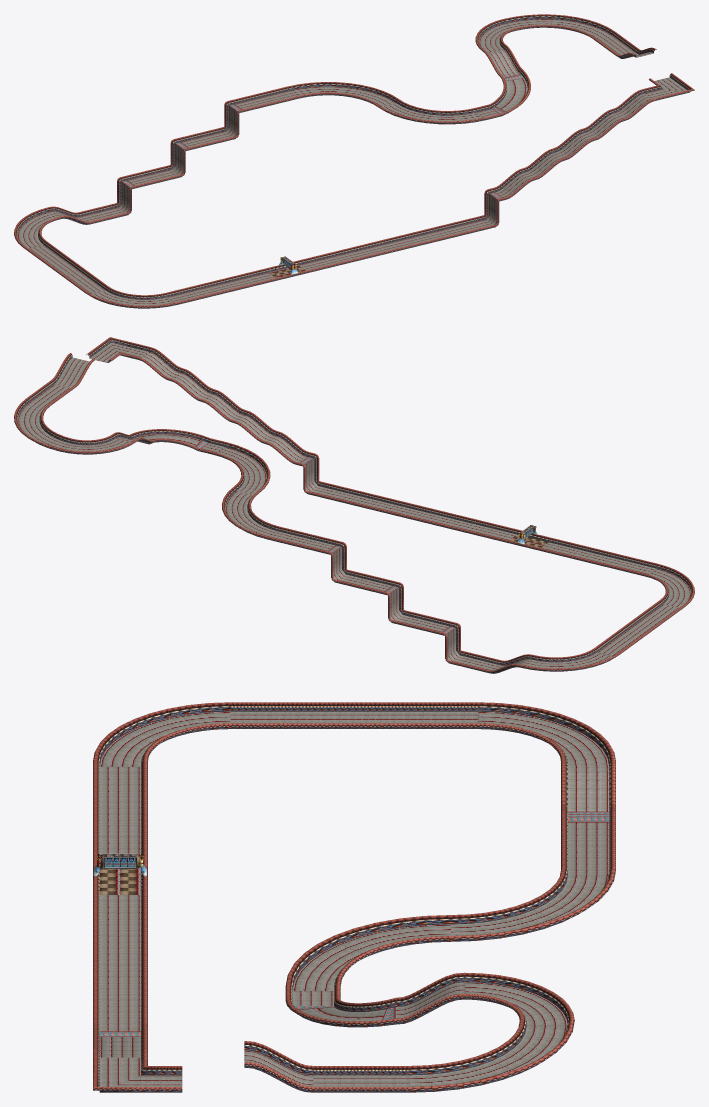
The picture shows the model from 3 angles, top to bottom: view 1: azimuth 30°, elevation 25°; view 2: azimuth 150°, elevation 25°; view 3: azimuth 270°, elevation 25°; orthographic projection. The views are drawn at different scales.
Parts seen in each view (by area): view 1: Road_Main.005, Wall_RoadTop.001, Wall_Main.003; view 2: Road_Main.005, Wall_RoadTop.001, Wall_Main.003; view 3: Road_Main.005, Wall_RoadTop.001, Wall_Main.003, RoadSecond.007, Arrows.001.
Boxes of the visible parts, <box> form: Road_Main.005: <box>17,19,686,305</box>; Wall_RoadTop.001: <box>14,14,694,307</box>; Wall_Main.003: <box>16,16,689,308</box>; Road_Main.005: <box>17,342,691,670</box>; Wall_RoadTop.001: <box>14,337,694,672</box>; Wall_Main.003: <box>17,339,691,673</box>; Road_Main.005: <box>99,711,609,1086</box>; Wall_RoadTop.001: <box>93,702,615,1090</box>; Wall_Main.003: <box>93,706,610,1092</box>; RoadSecond.007: <box>99,867,140,894</box>; Arrows.001: <box>99,811,609,1036</box>.
Size of the model in its own units: 96500 by 18600 by 38000.
Materials: 12 (12 with a texture image).
